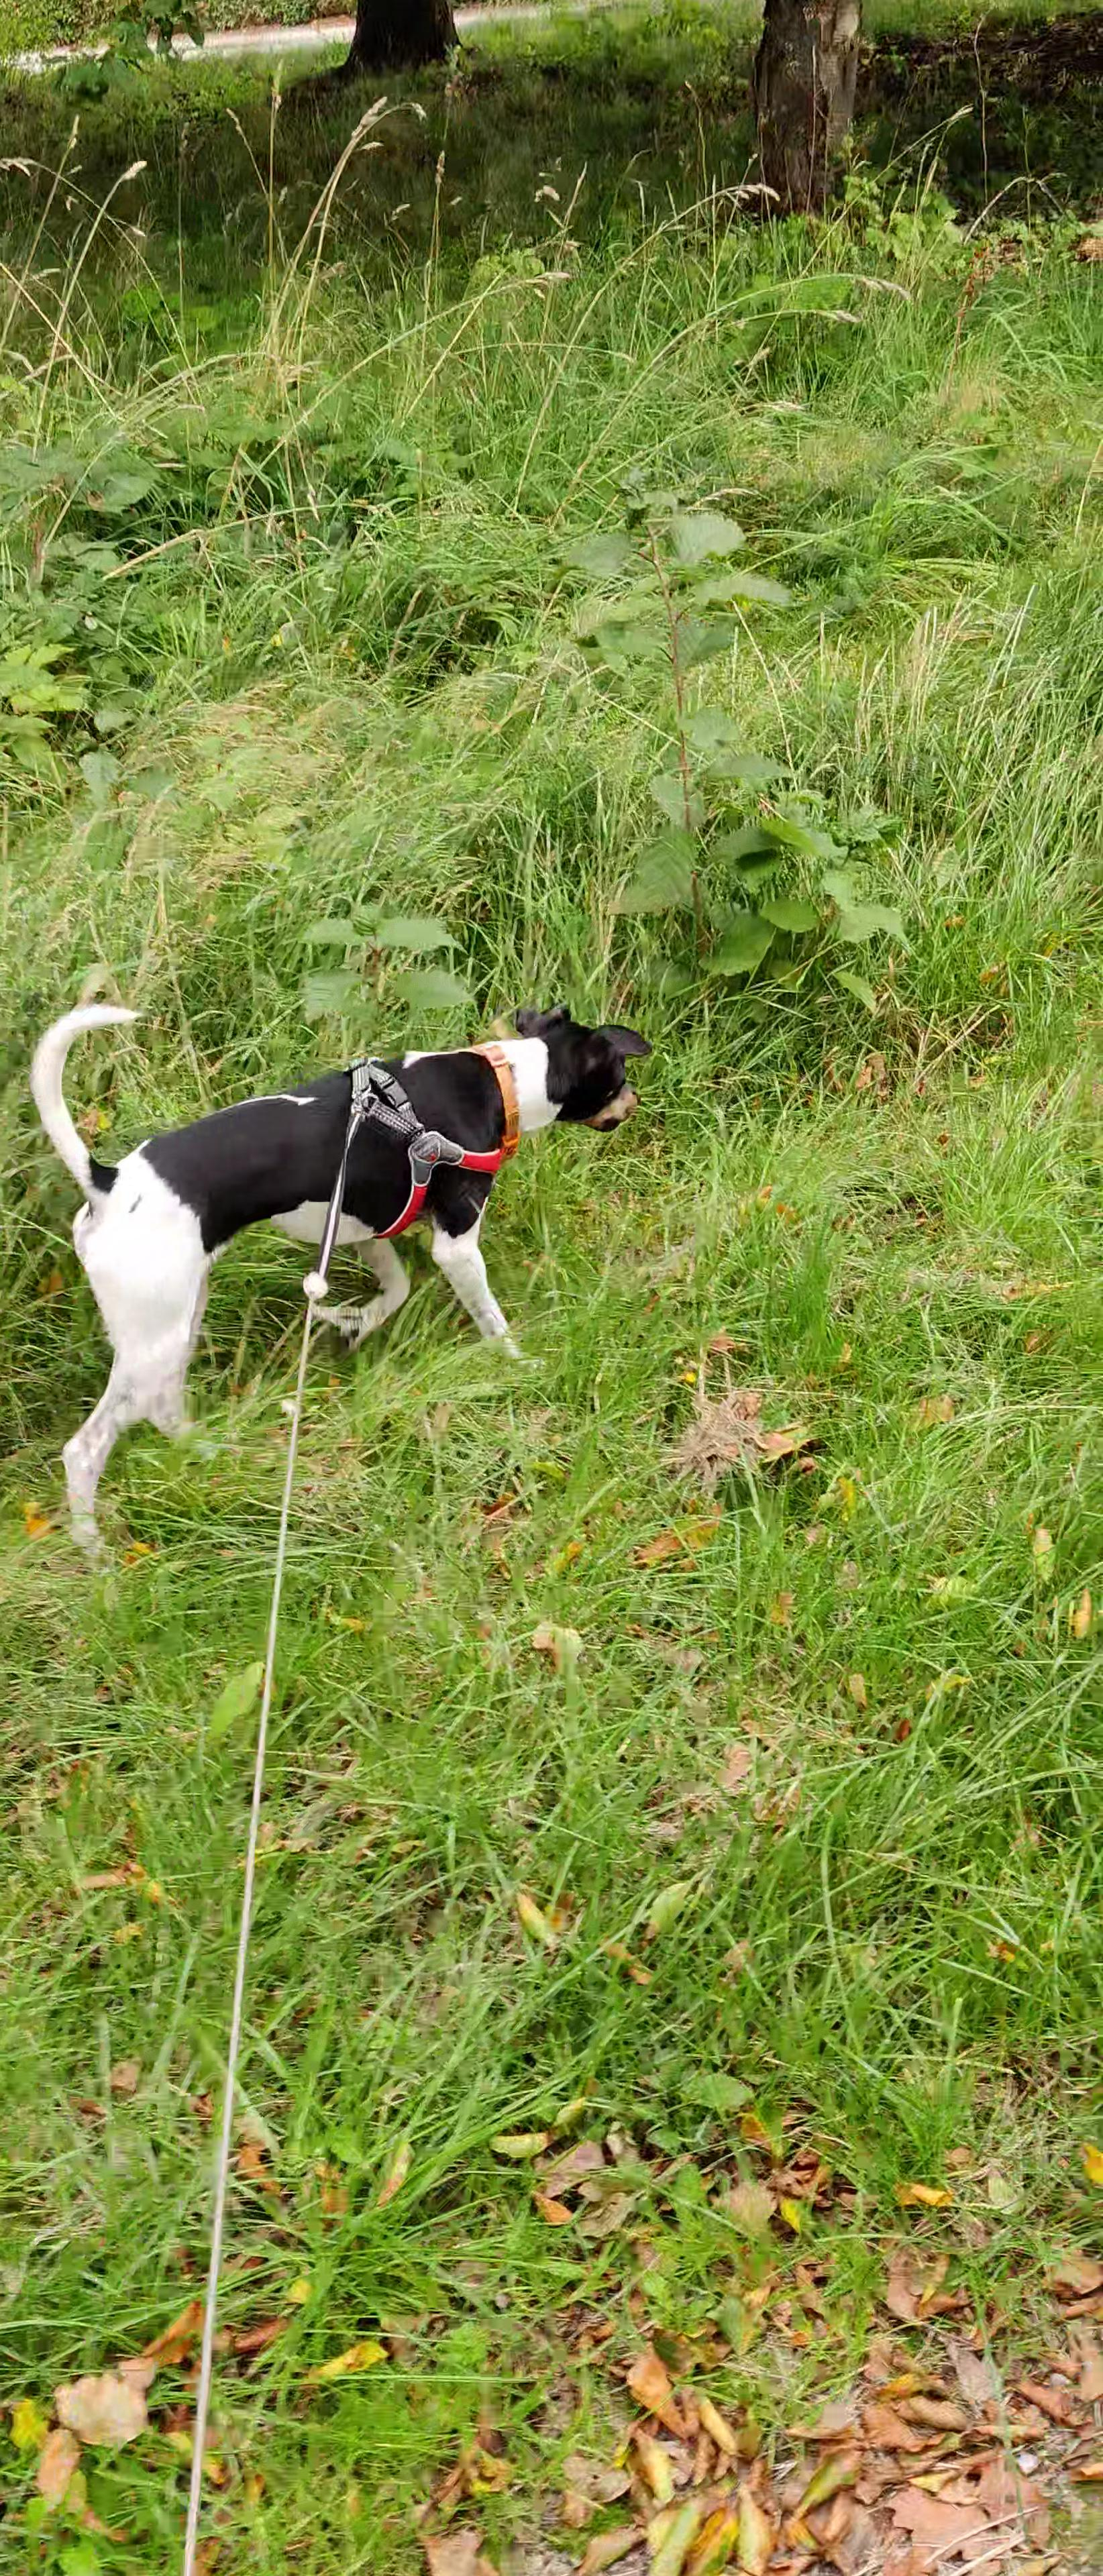Dog: (21, 925, 667, 1587)
